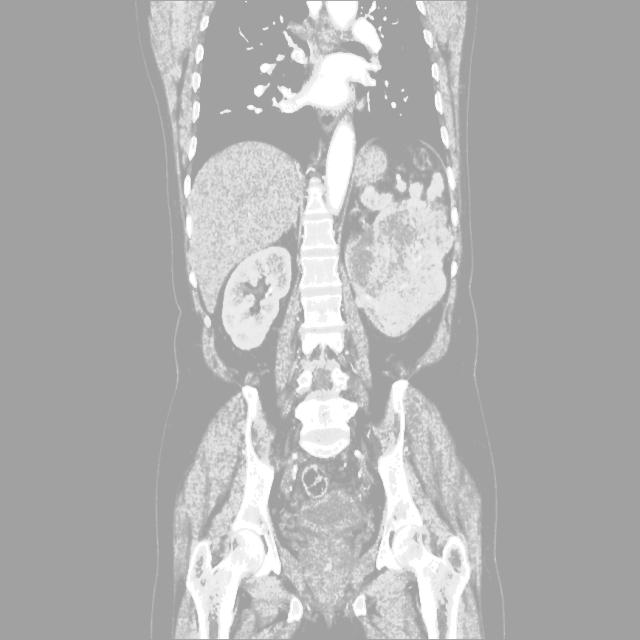TUMOR: (62, 143, 534, 355)
